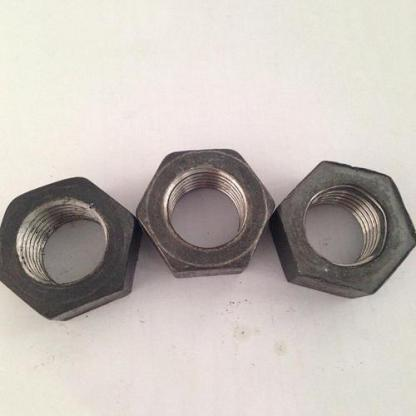FOD: (267, 155, 415, 302), (0, 174, 143, 325), (136, 148, 275, 286)
